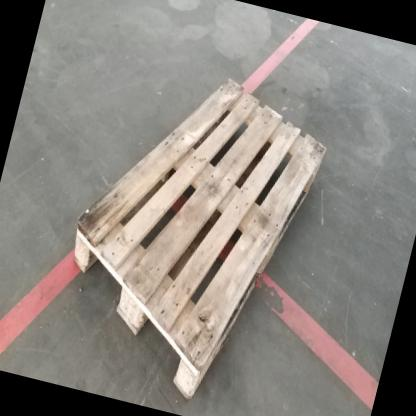BoxFace: (70, 74, 330, 408)
